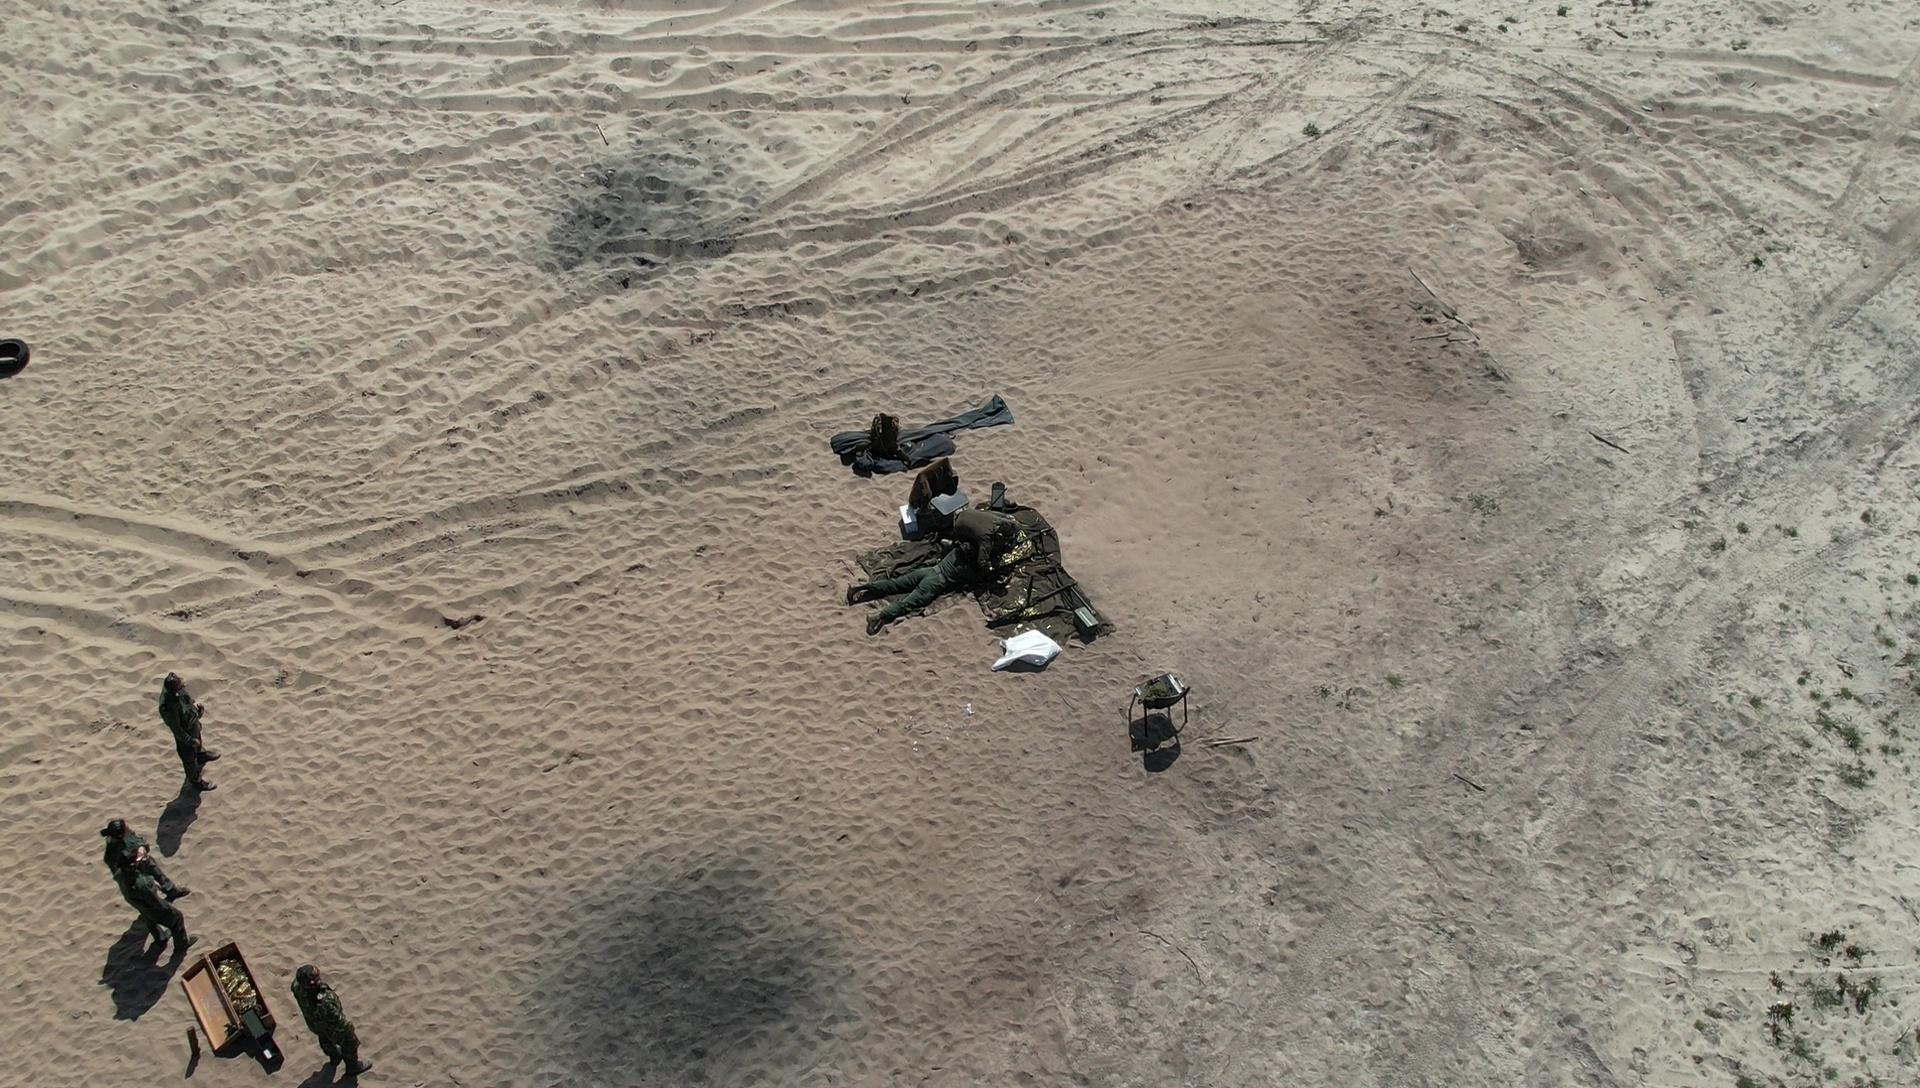Soldier: (866, 513, 1015, 626), (145, 670, 233, 828), (113, 855, 196, 971), (905, 462, 992, 568), (291, 969, 375, 1064), (103, 818, 146, 877)
